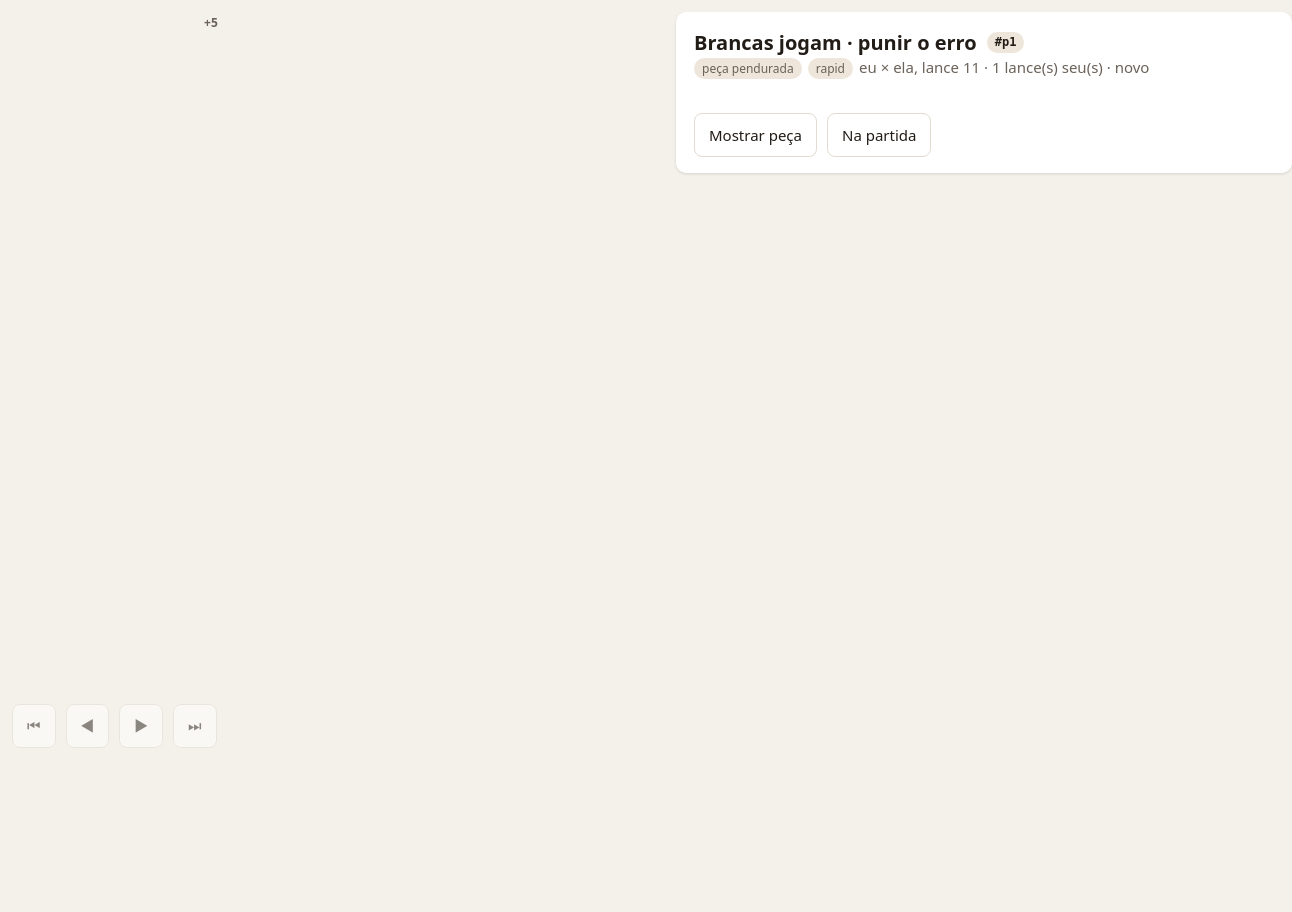
Test case: dica em dois estágios: rótulo muda e o botão segue habilitado
What coordinates should you click on to do the following:
click the button with aria-label "Dica"
I would click on:
 (756, 135)
Its box is [694,113,817,157].
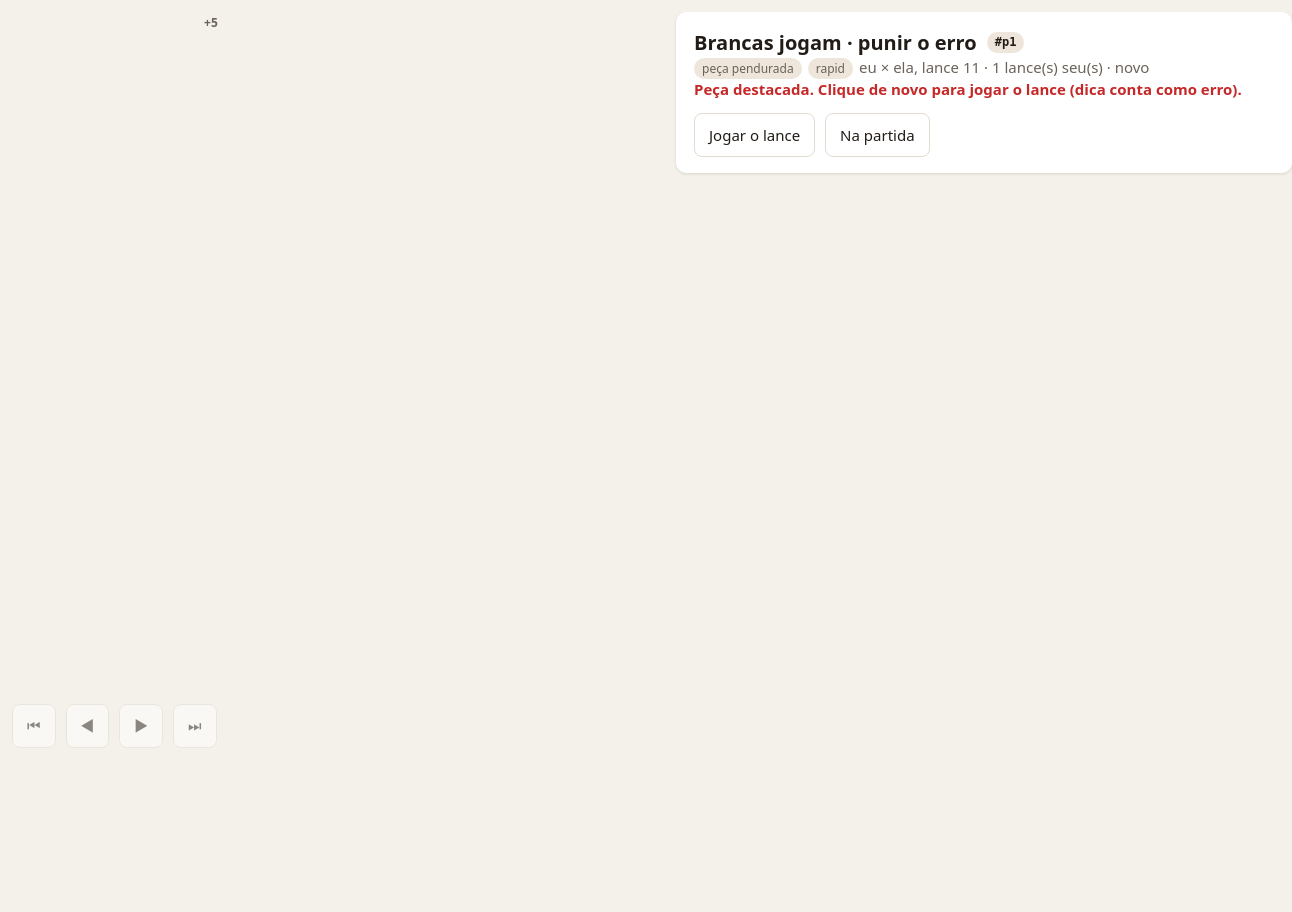
Now the button with aria-label "Dica" reads "Jogar o lance", box [694,113,815,157]
Now the text "Clique de novo para jogar o lance" is shown, box [694,79,1242,99]
